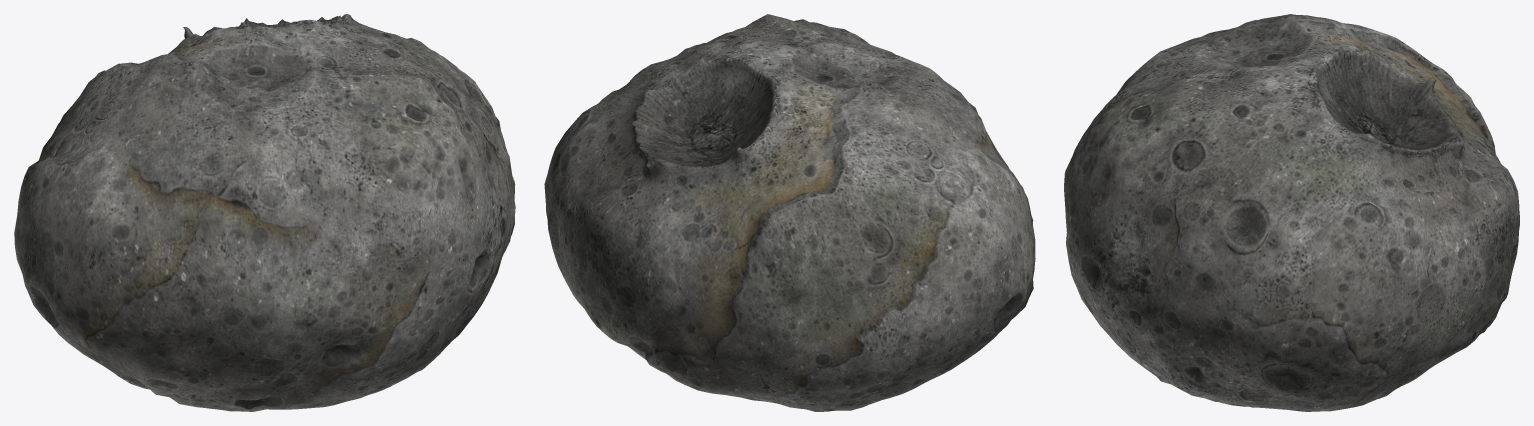
File: psyche.glb
The picture shows the model from 3 angles, left to right: view 1: azimuth 30°, elevation 25°; view 2: azimuth 150°, elevation 25°; view 3: azimuth 270°, elevation 25°; orthographic projection. The views are drawn at different scales.
Parts seen in each view (by area): view 1: psyche_LP.001; view 2: psyche_LP.001; view 3: psyche_LP.001.
Part boxes in pixels (x1,y1,x2,y2): psyche_LP.001: [14, 14, 515, 411]; psyche_LP.001: [544, 14, 1035, 411]; psyche_LP.001: [1064, 14, 1519, 411].
Size of the model in its own units: 2.98 by 2.08 by 2.56.
1 material, 1 textured.
